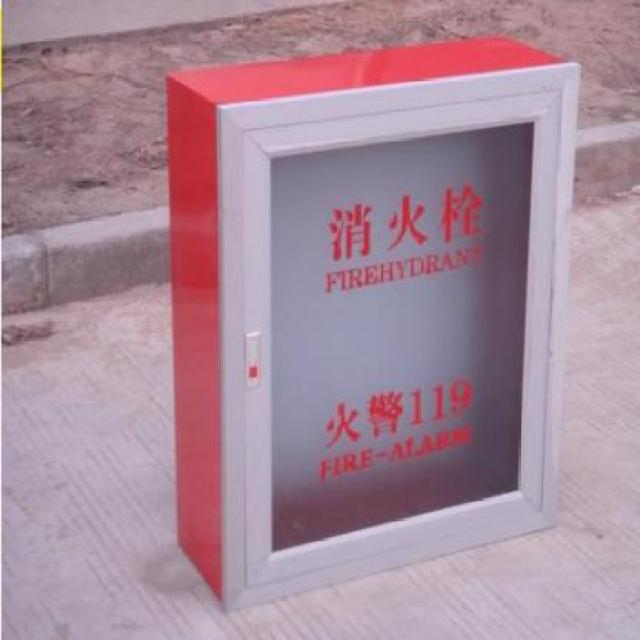firehydrant: (160, 29, 584, 621)
